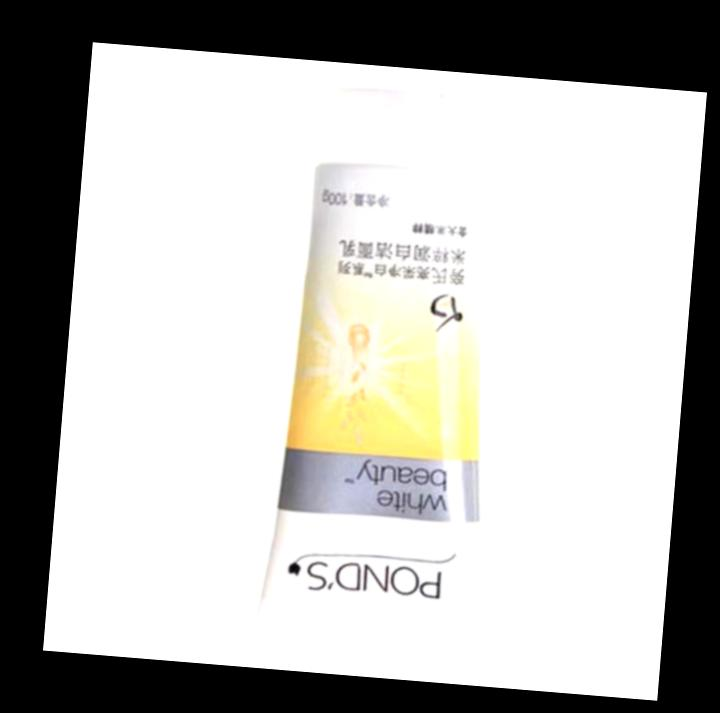cosmetic: (252, 80, 531, 659)
